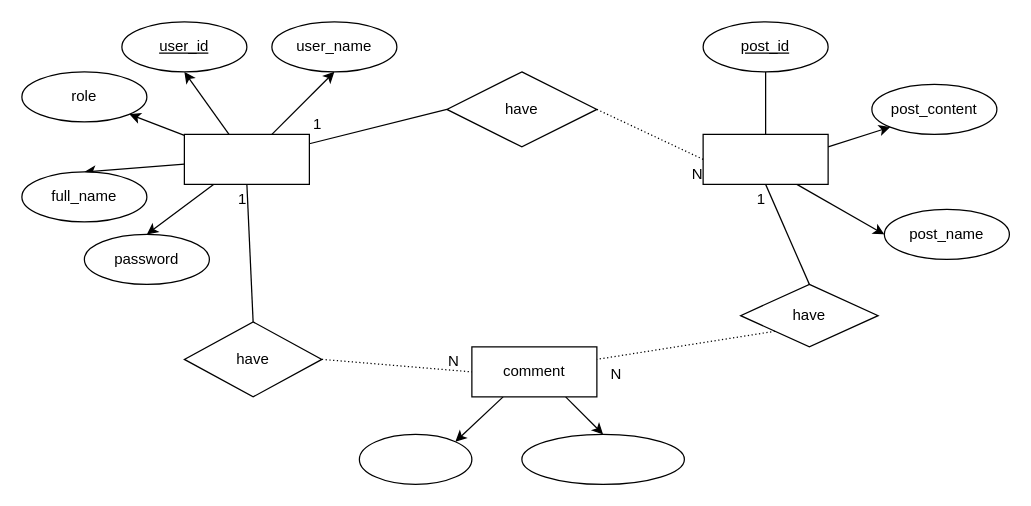
The diagram is 1031 pixels wide and 506 high, and some of its shapes have lost their labels. Each missing label, with the centre of its shape:
"comment_Content" goes at pixel 602 458.
"comment_id" goes at pixel 415 458.
"post" goes at pixel 765 158.
"user" goes at pixel 246 158.
